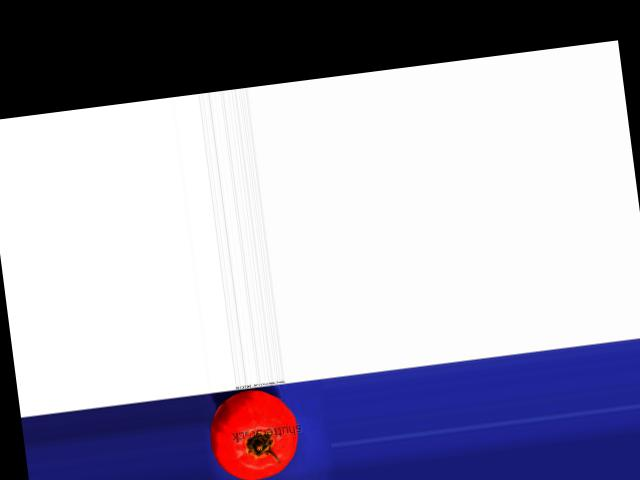tomato: (204, 386, 303, 480)
